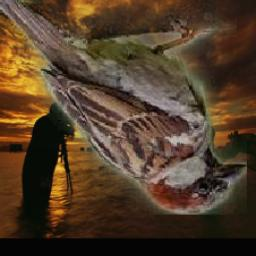Sparrow: (0, 0, 247, 215)
